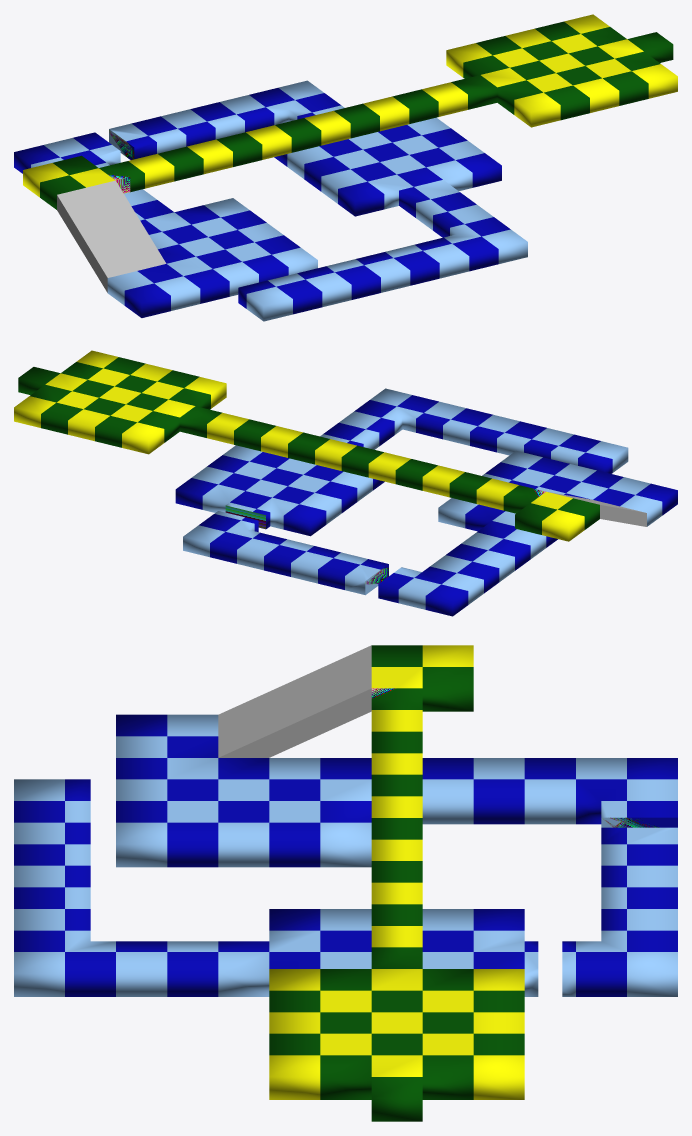
3 views of the same model, one above another, from view 1: azimuth 30°, elevation 25°; view 2: azimuth 150°, elevation 25°; view 3: azimuth 270°, elevation 25° (orthographic). The views are drawn at different scales.
Parts seen in each view (by area): view 1: Untitled; view 2: Untitled; view 3: Untitled.
Part boxes in pixels (x1=…): Untitled: x1=14, y1=14, x2=677, y2=321; Untitled: x1=14, y1=350, x2=677, y2=616; Untitled: x1=14, y1=645, x2=677, y2=1121.
Bounding box in the file's own units: 4.2 × 0.4 × 2.6.
Materials: 1 (1 with a texture image).
